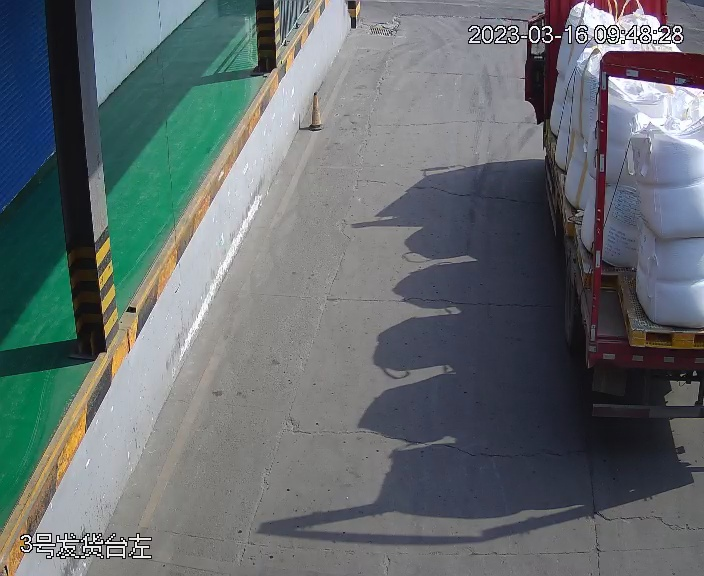truck: (118, 1, 699, 574), (519, 1, 704, 430)
